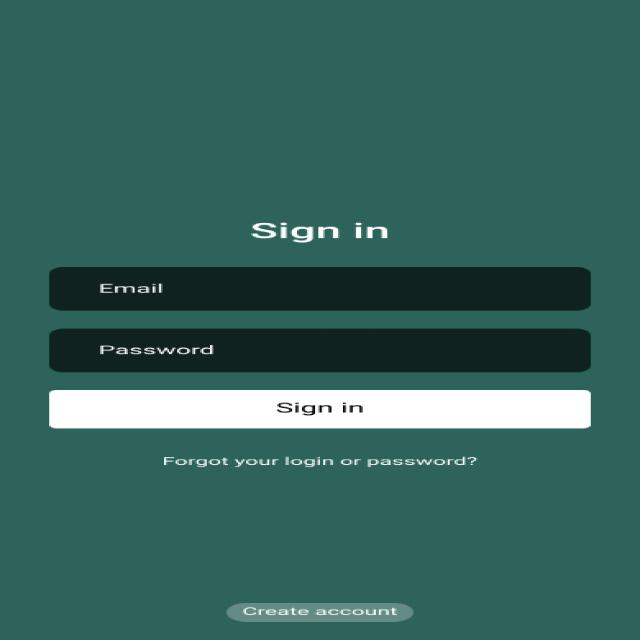button: (33, 384, 614, 438), (214, 593, 426, 627)
column: (4, 0, 640, 637)
input: (37, 258, 607, 316), (33, 322, 610, 376)
spacer: (23, 18, 610, 206), (27, 479, 615, 586)
text: (158, 451, 484, 474), (224, 216, 418, 248)
